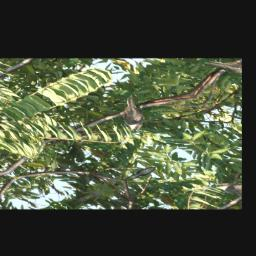Cuckoo: (97, 94, 168, 133)
